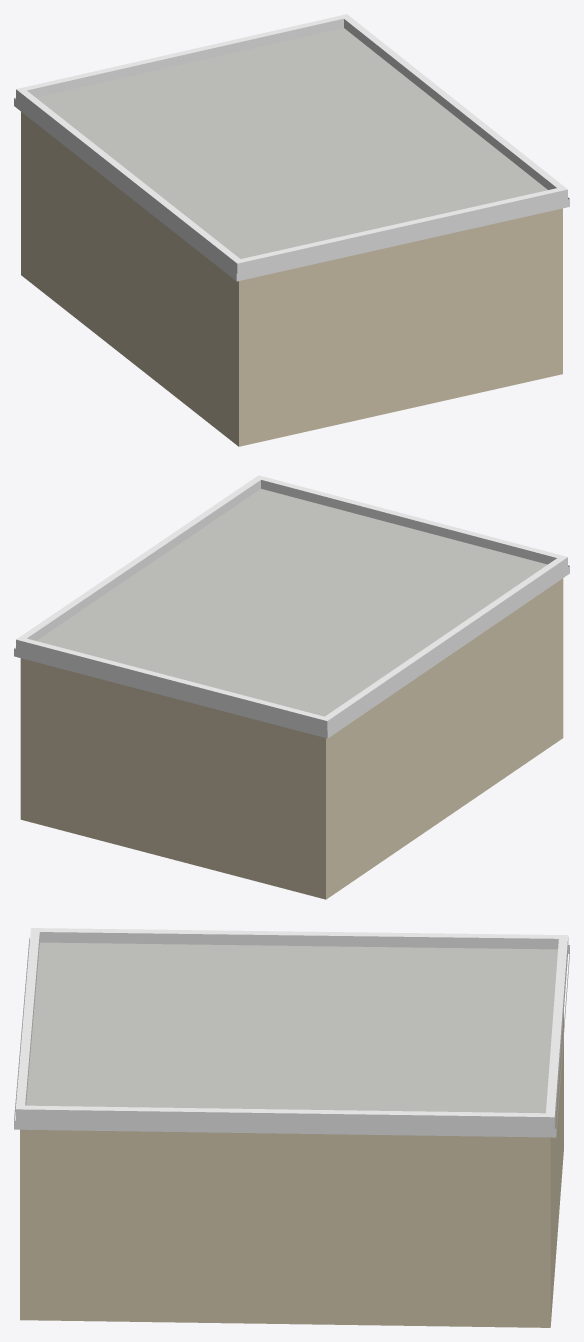
Rendered from watertower_ors.glb.
3 renders of one model, top to bottom at view 1: azimuth 30°, elevation 25°; view 2: azimuth 150°, elevation 25°; view 3: azimuth 270°, elevation 25°, orthographic. The views are drawn at different scales.
Parts seen in each view (by area): view 1: watertower_ors_lod0; view 2: watertower_ors_lod0; view 3: watertower_ors_lod0.
Part boxes in pixels (<box>): watertower_ors_lod0: <box>14,14,569,446</box>; watertower_ors_lod0: <box>14,475,569,899</box>; watertower_ors_lod0: <box>14,928,569,1327</box>.
Size of what is drawn, in the model's own units: 27.12 by 14.1 by 33.42.
